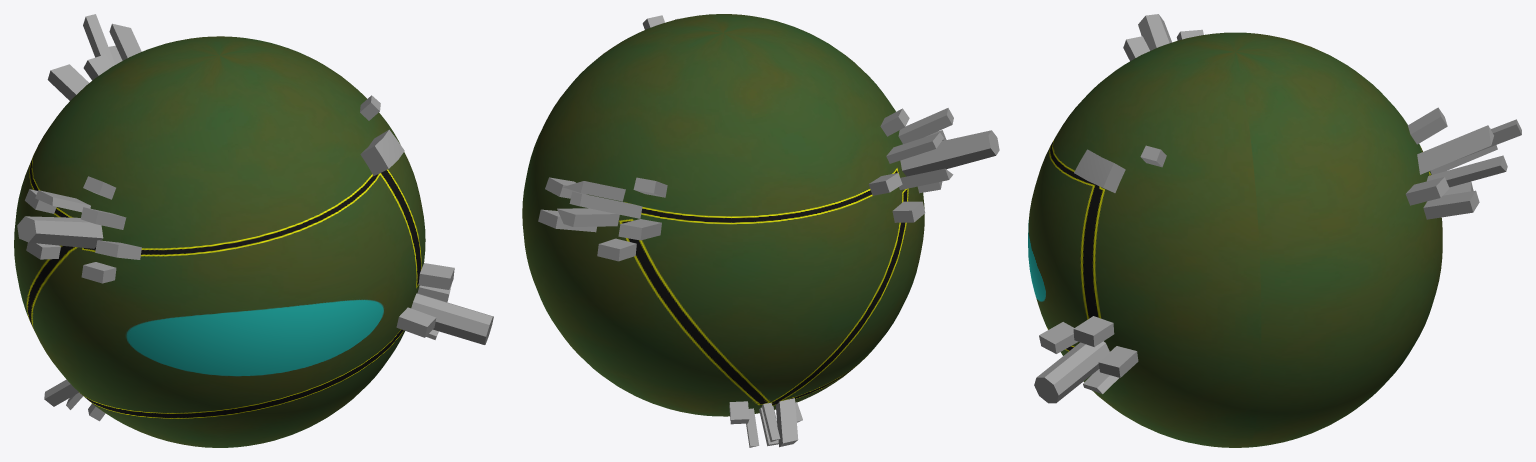
File: smartPlanet.fbx
3 views of the same model, side by side, from view 1: azimuth 30°, elevation 25°; view 2: azimuth 150°, elevation 25°; view 3: azimuth 270°, elevation 25° (orthographic). The views are drawn at different scales.
Parts seen in each view (by area): view 1: smartPlanet; view 2: smartPlanet; view 3: smartPlanet.
Boxes of the visible parts, x1,y1,x2,y2 form: smartPlanet: (14, 14, 493, 447); smartPlanet: (522, 14, 999, 447); smartPlanet: (1028, 14, 1521, 447).
Size of the model in its own units: 91.38 by 76.71 by 91.17.
